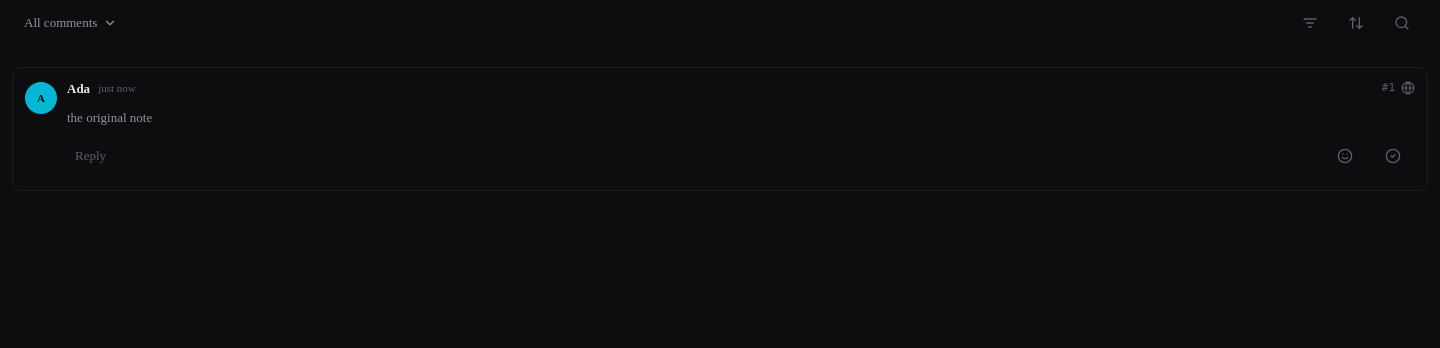
Test case: a reply never fails silently › falls back to a plain-language message when the error has none
The width and height of the screenshot is (1440, 348).
Click the button "Reply": (91, 156) [67,134,114,178]
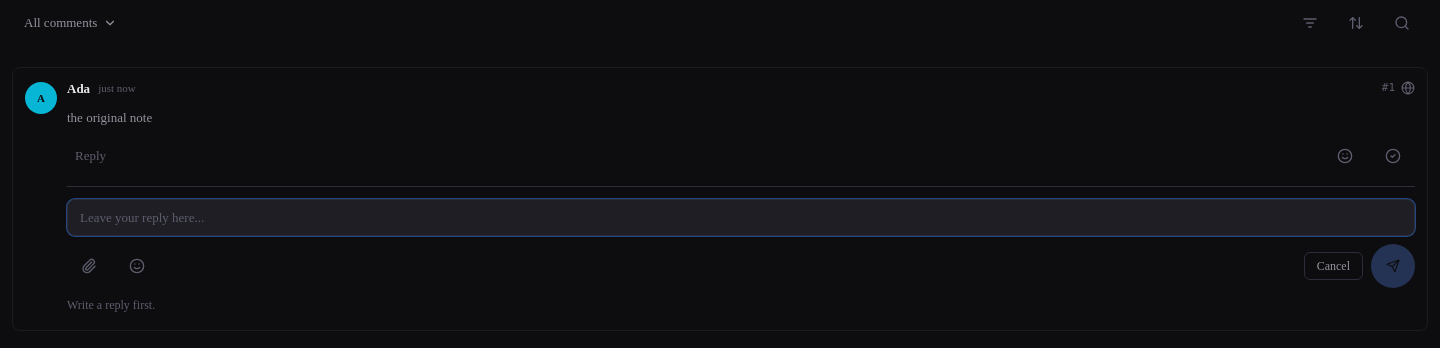
In the field with placeholder "Leave your reply here...": (741, 217) [67,199,1415,236], type "my reply"
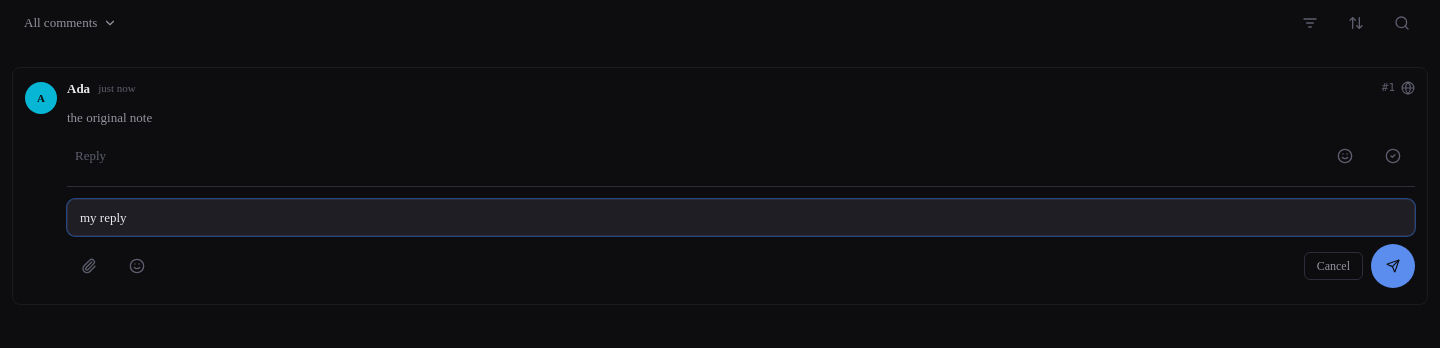
Click the button named "send reply": (1393, 266) [1371,244,1415,288]
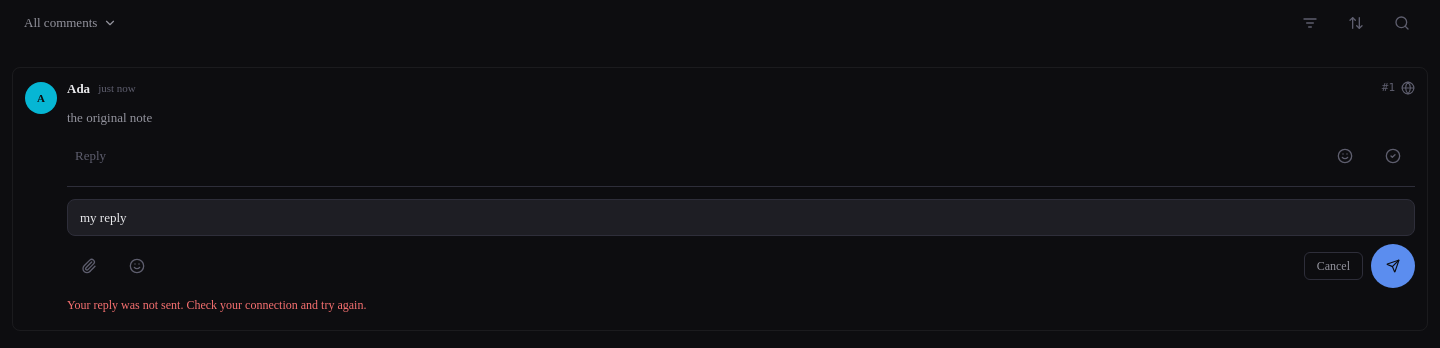
Check: the message shows "was not sent", box [67,298,366,312]
